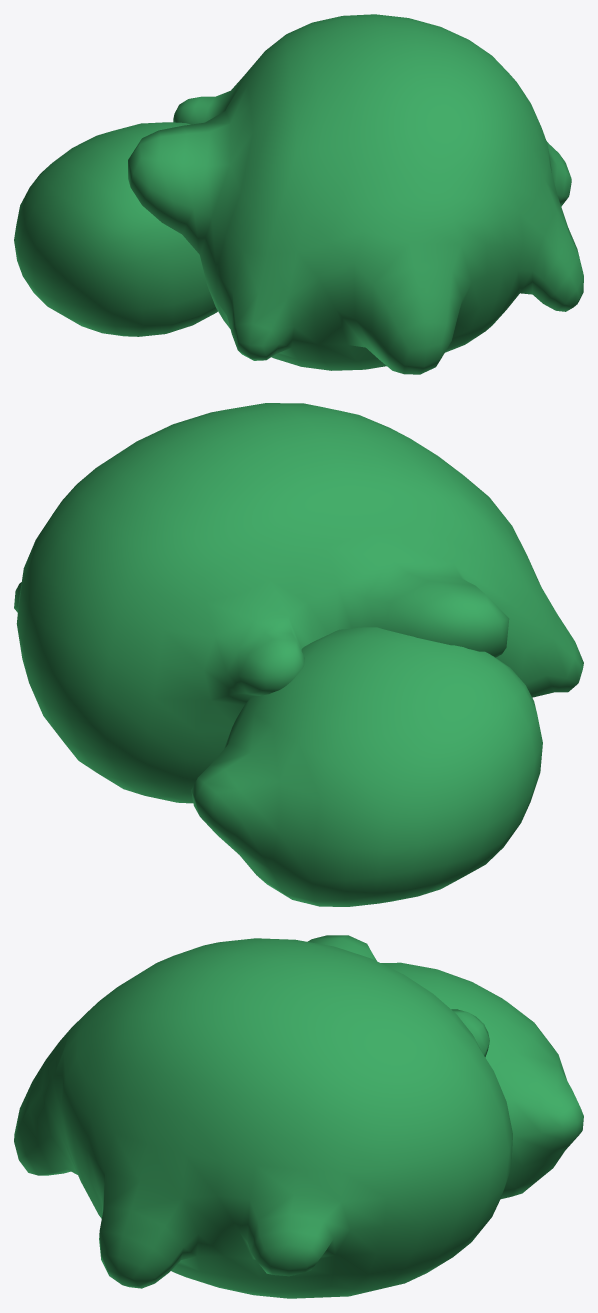
File: Bush_A_01.fbx
3 views of the same model, one above another, from view 1: azimuth 30°, elevation 25°; view 2: azimuth 150°, elevation 25°; view 3: azimuth 270°, elevation 25° (orthographic). The views are drawn at different scales.
Visible parts, largest first — view 1: Bush_A_01_LOD0; view 2: Bush_A_01_LOD0; view 3: Bush_A_01_LOD0.
Boxes of the visible parts, bbox=[...] form: Bush_A_01_LOD0: bbox=[14, 14, 583, 374]; Bush_A_01_LOD0: bbox=[14, 403, 583, 906]; Bush_A_01_LOD0: bbox=[14, 935, 583, 1298].
Size of what is drawn, in the model's own units: 538 by 302 by 521.
